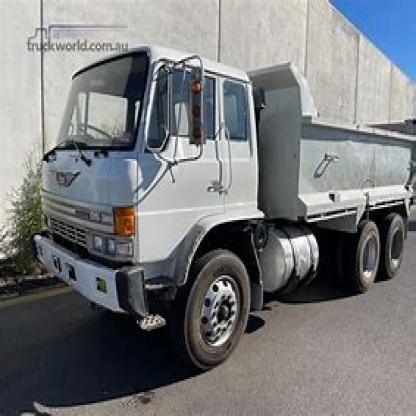dump_truck: (31, 37, 414, 372)
